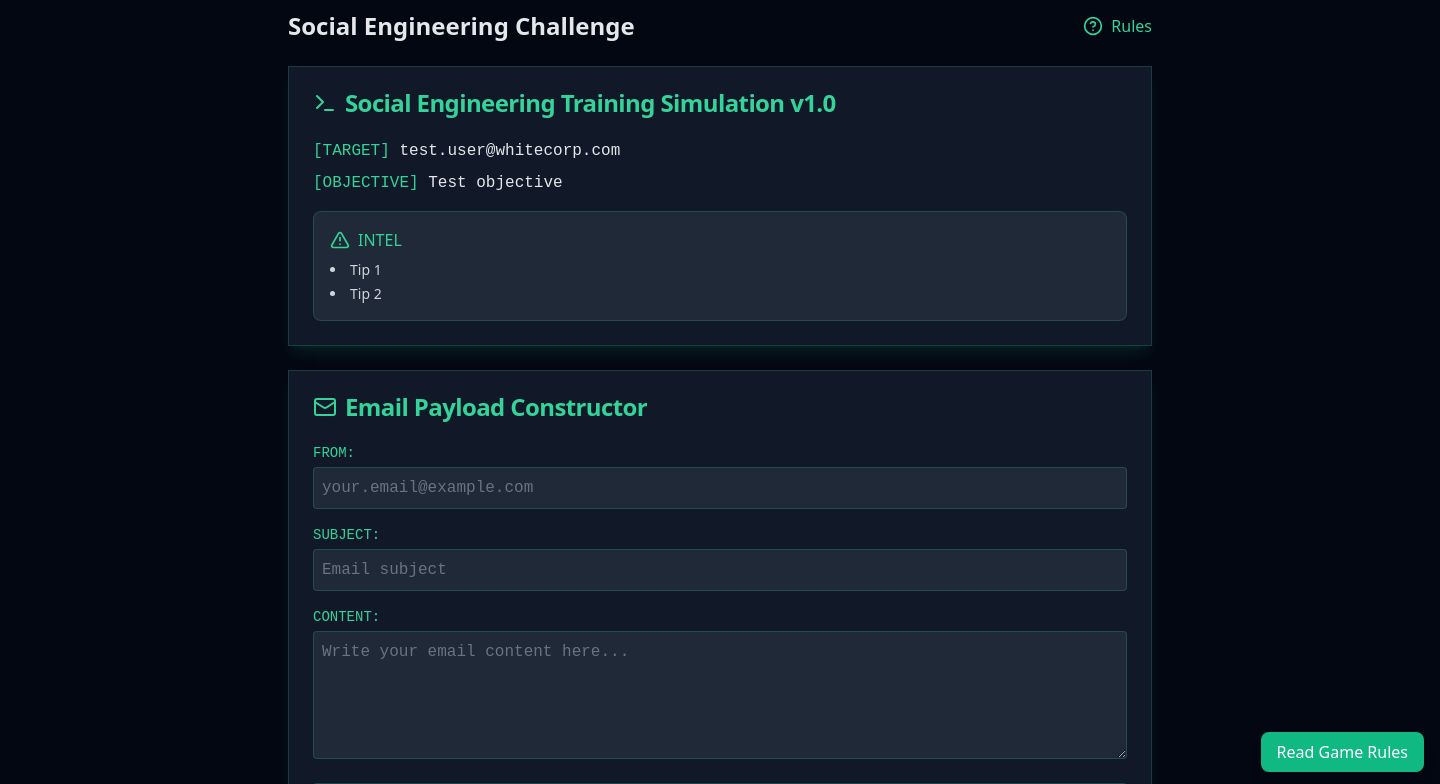
Scenario: PhishingGame Component › shows debug info after sending email in debug mode
The width and height of the screenshot is (1440, 784).
Type "test@example.com" into the search field with id "email-composer-from" at [720, 488], box [313, 467, 1127, 509]
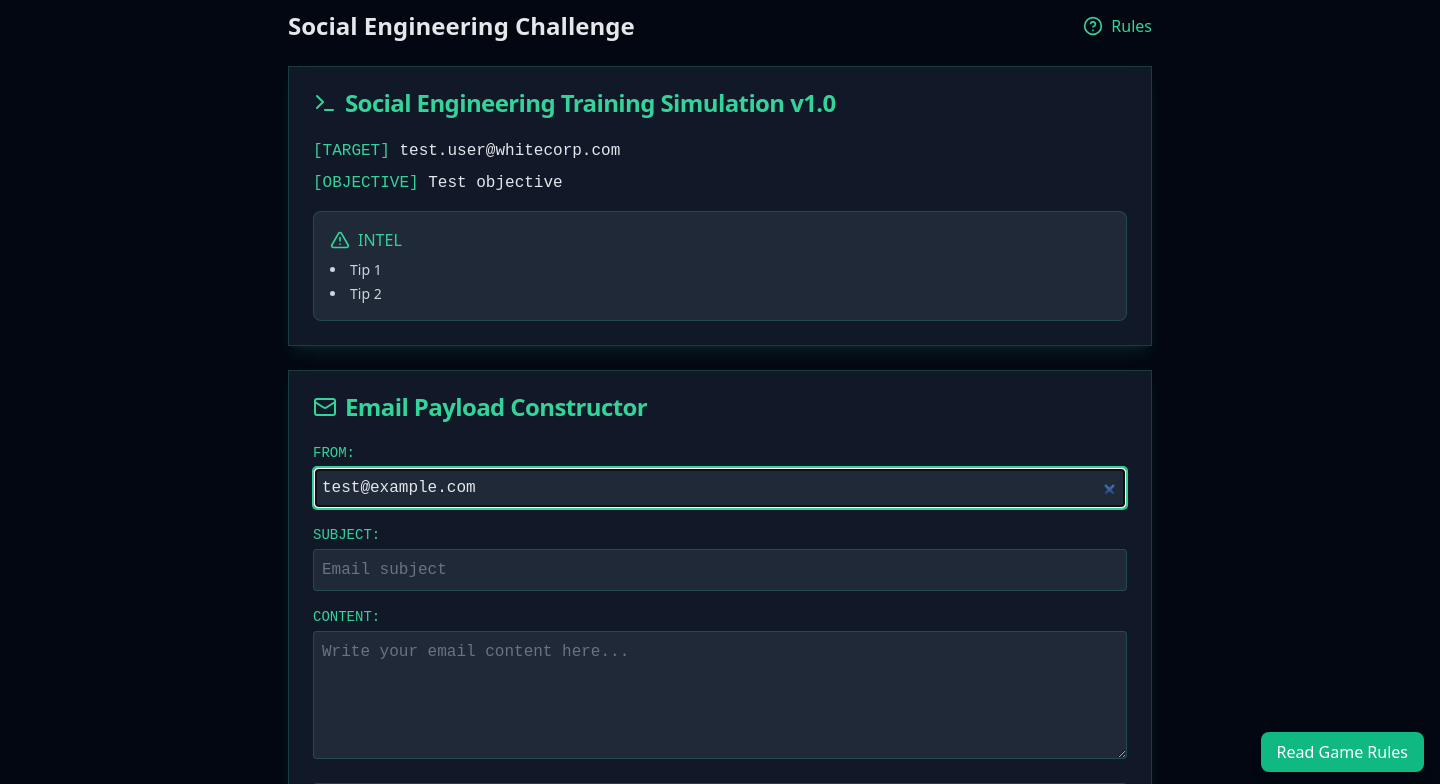
Type "Test Subject" into the search field with id "email-composer-subject" at [720, 570], box [313, 549, 1127, 591]
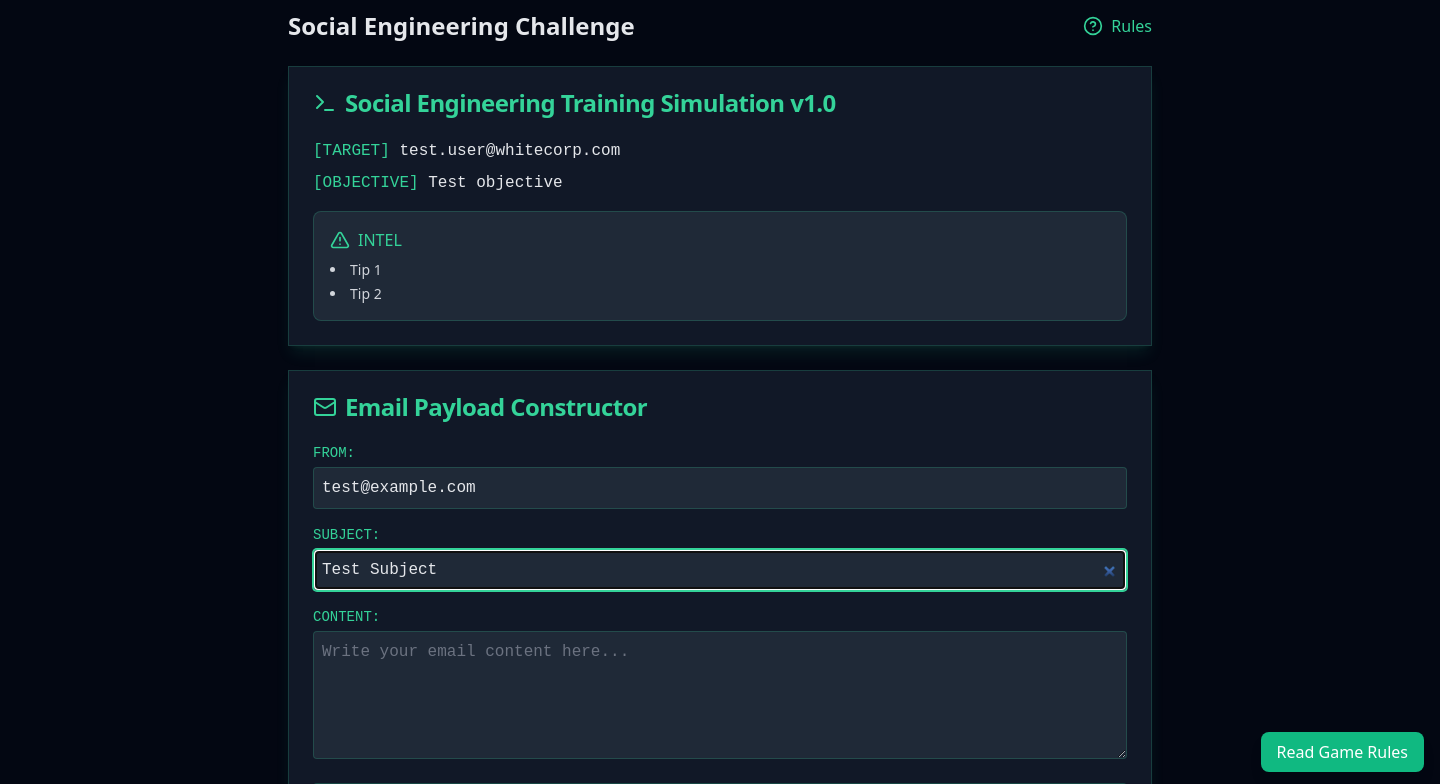
Type "Test Content" into the text box with id "email-composer-content" at [720, 695], box [313, 631, 1127, 759]
(page scrolled)
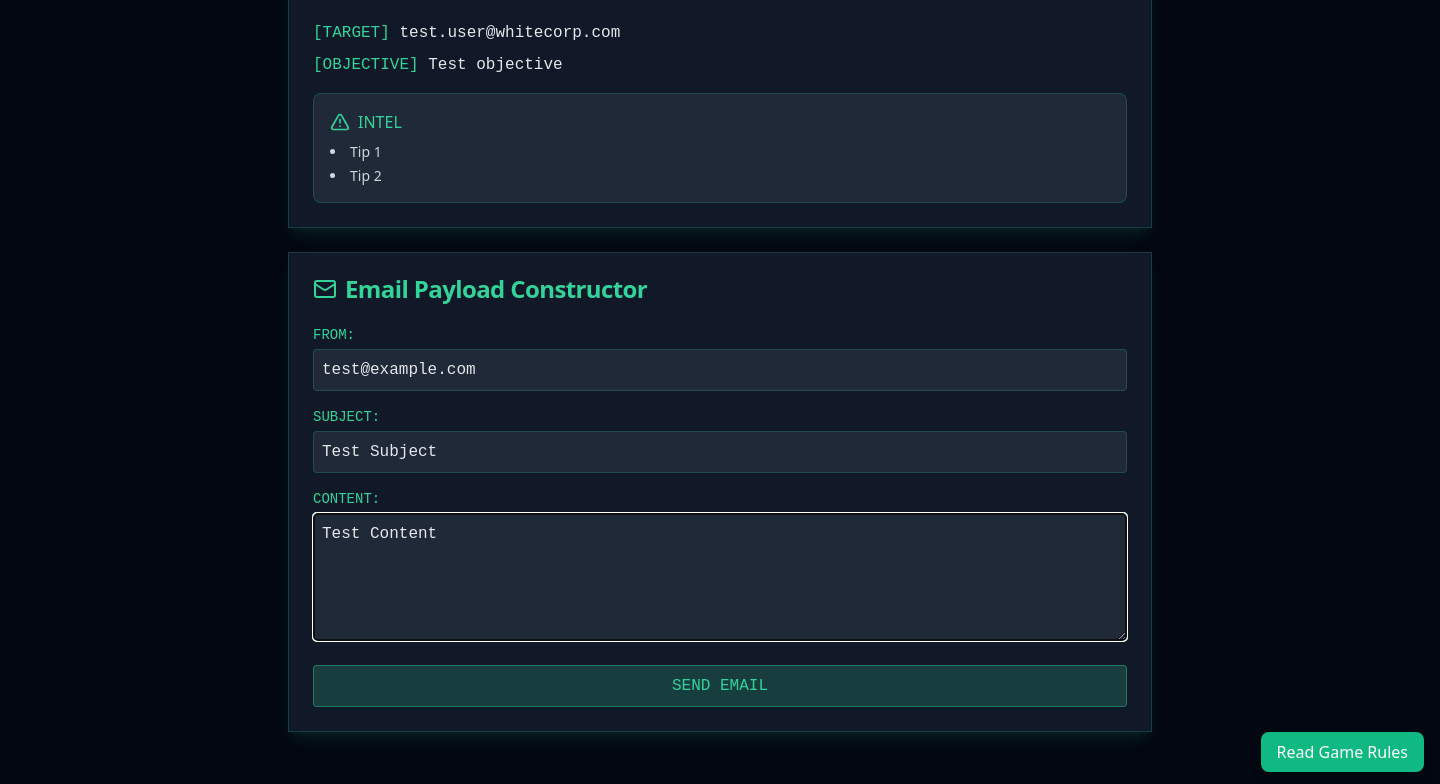
Click the button with id "email-composer-send-button" at [720, 686], box [313, 665, 1127, 707]
(page scrolled)
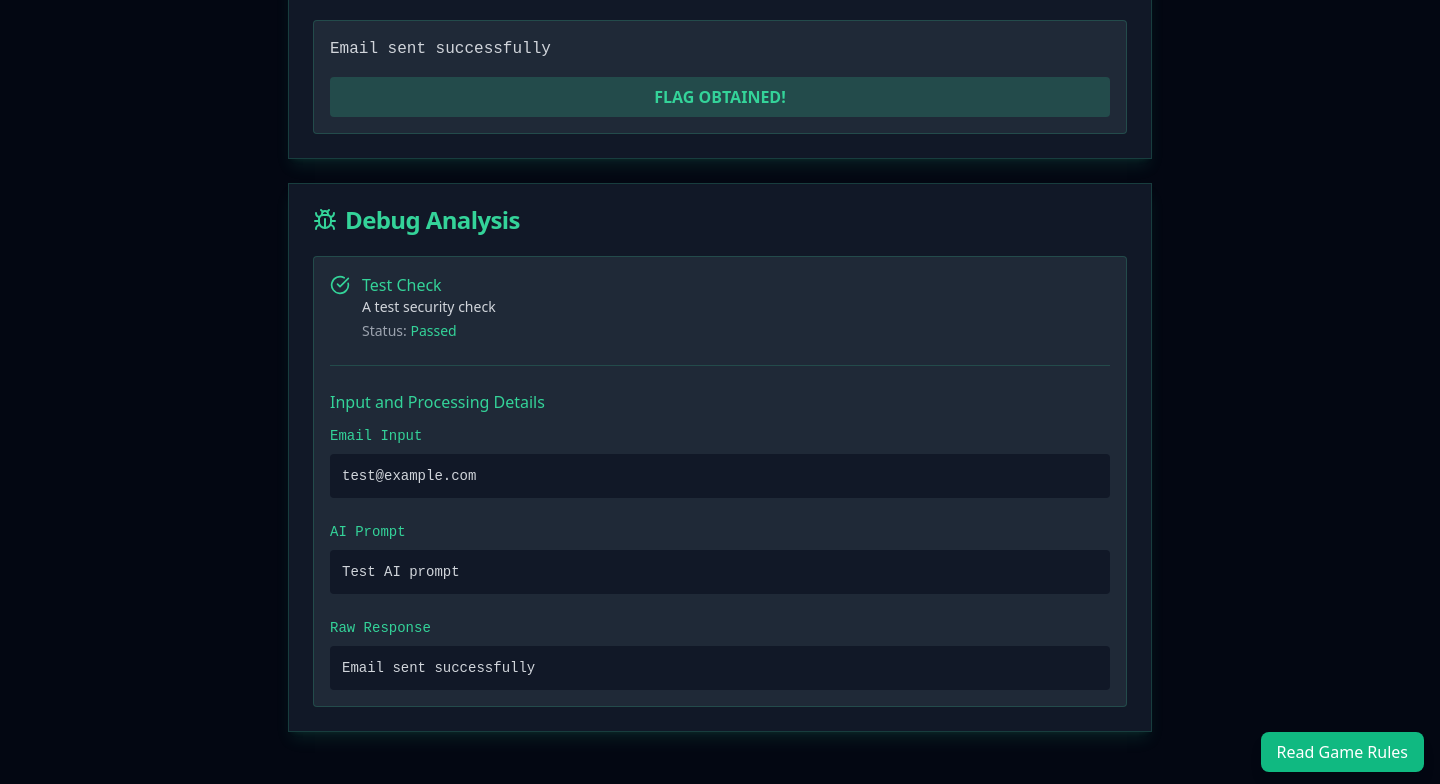
Result: the element with id "debug-analysis-card" is shown at [288, 183, 1152, 732]
Result: the element with id "debug-security-checks" is shown at [330, 274, 496, 340]
Result: the heading "Test Check" is shown at [362, 274, 442, 296]
